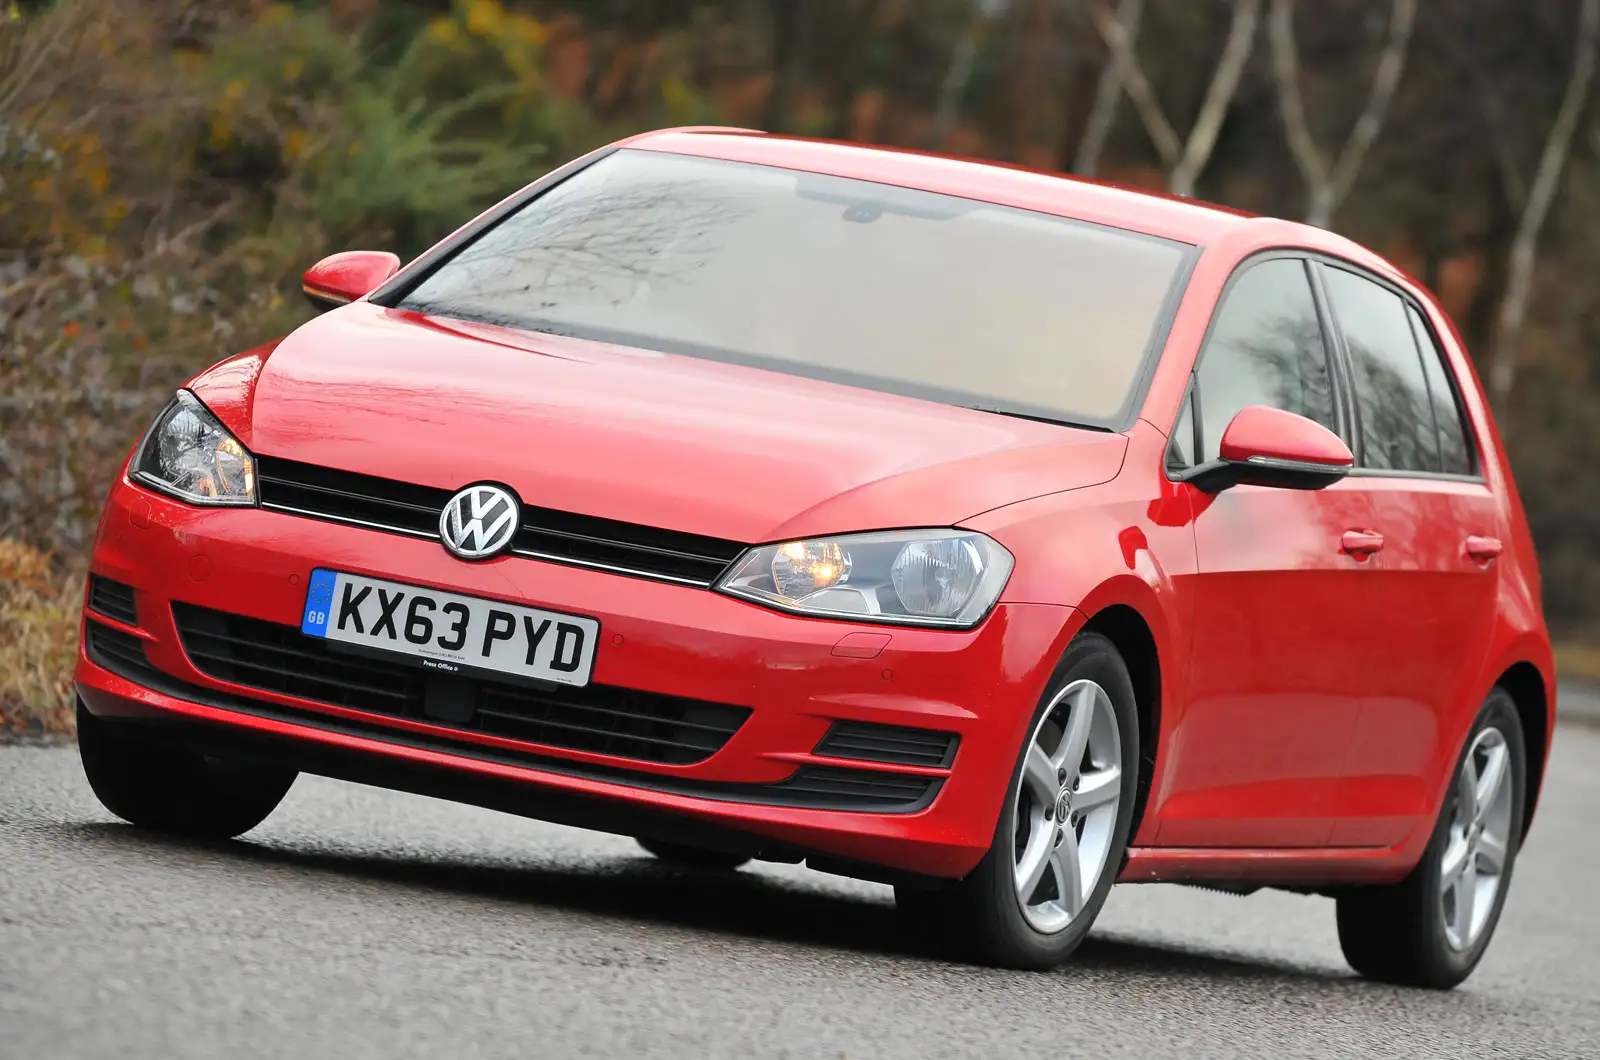car: (59, 114, 1567, 995)
